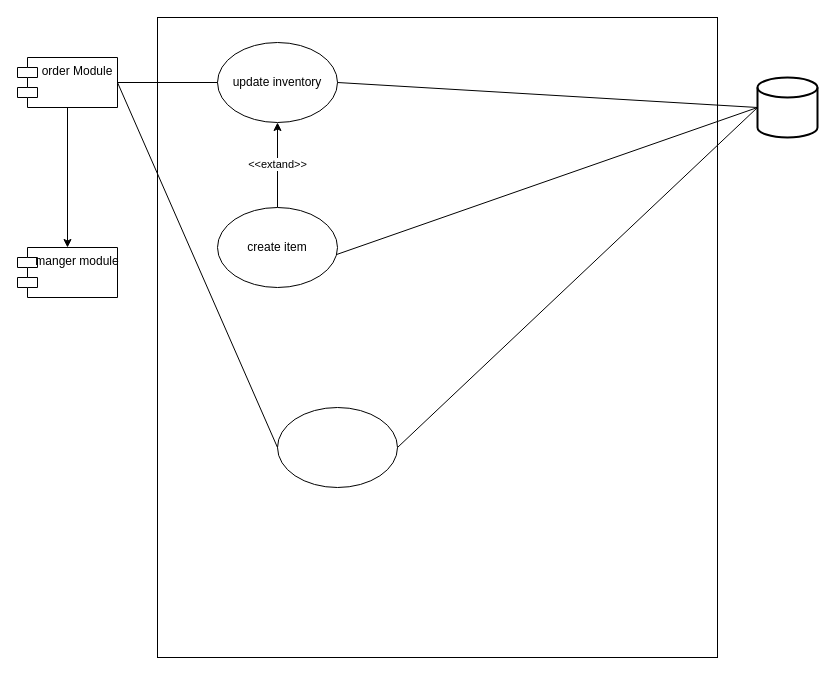
Image size: 836x675. Some labels were removed from this diagram. The shapes that lost their labels are listed below. From the top down, each one's centre as x and y in pixels, then its label:
the point at 787,107: inventory DB
the point at 337,447: get inventory
